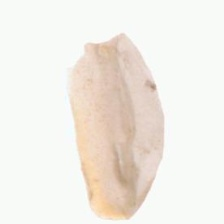L2: (66, 32, 164, 218)
